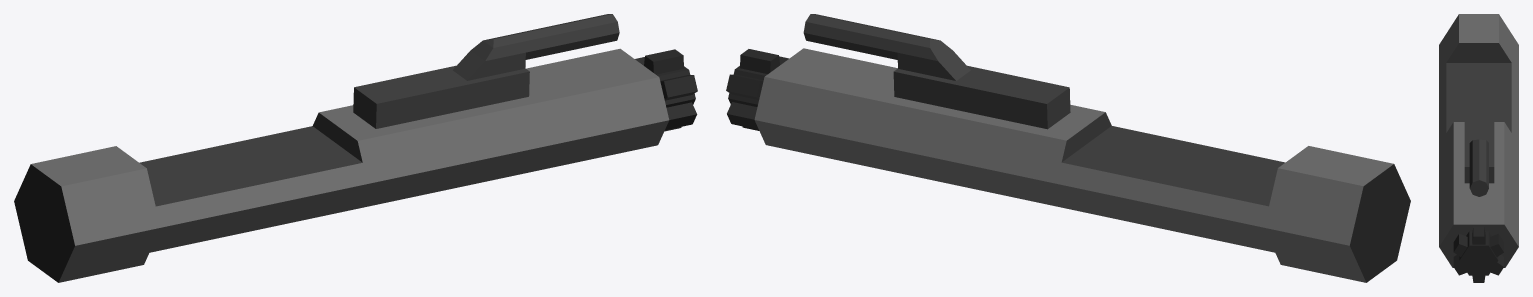
File: BoltCarrier_3D.glb
3 views of the same model, side by side, from view 1: azimuth 30°, elevation 25°; view 2: azimuth 150°, elevation 25°; view 3: azimuth 270°, elevation 25° (orthographic). The views are drawn at different scales.
Parts seen in each view (by area): view 1: BoltCarrierLowPoly; view 2: BoltCarrierLowPoly; view 3: BoltCarrierLowPoly.
Boxes of the visible parts, x1=… form: BoltCarrierLowPoly: x1=14, y1=14, x2=697, y2=282; BoltCarrierLowPoly: x1=726, y1=14, x2=1410, y2=282; BoltCarrierLowPoly: x1=1439, y1=14, x2=1518, y2=282.
Size of the model in its own units: 0.4068 by 0.0792 by 0.0674.
Materials: 1 (1 with a texture image).
